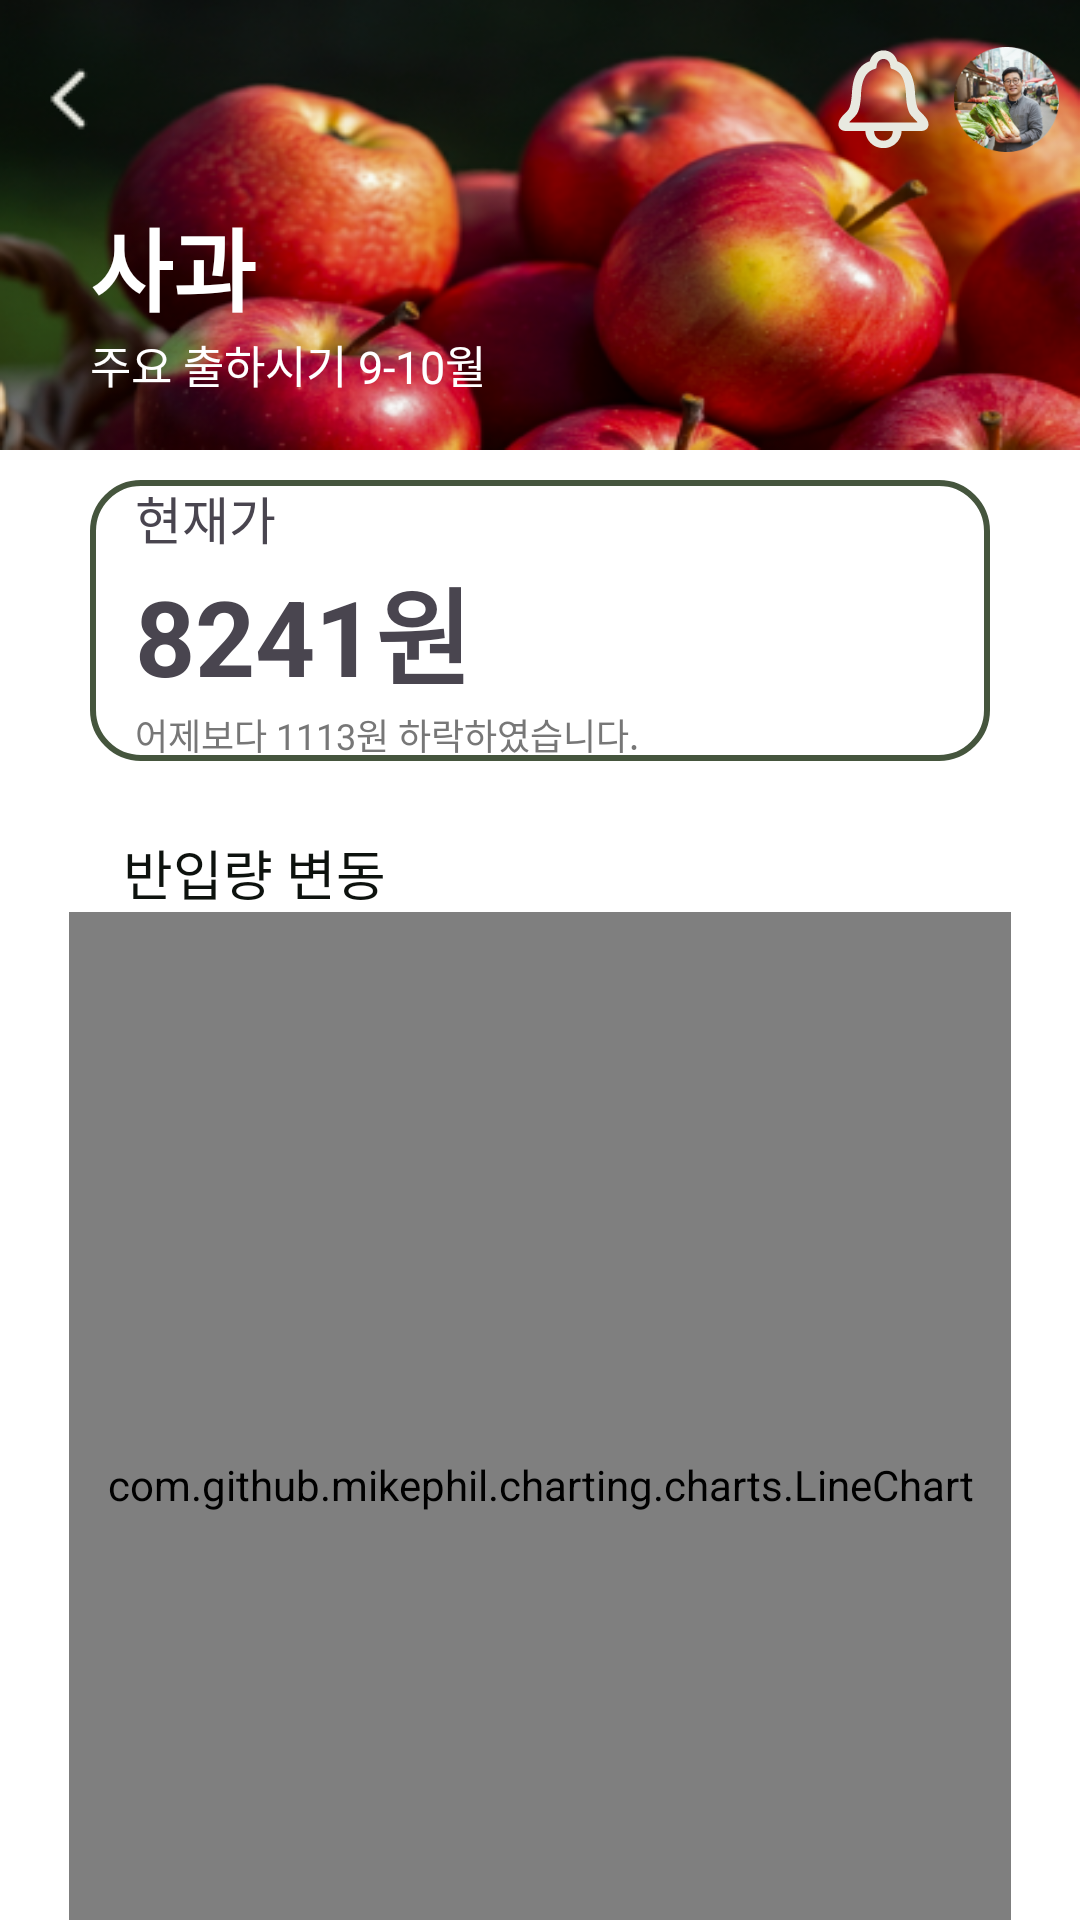

Icon click points for this 1080*1920 phone screenshot, format (x,y):
back: (68,99)
bell: (883,99)
profile: (1006,99)
